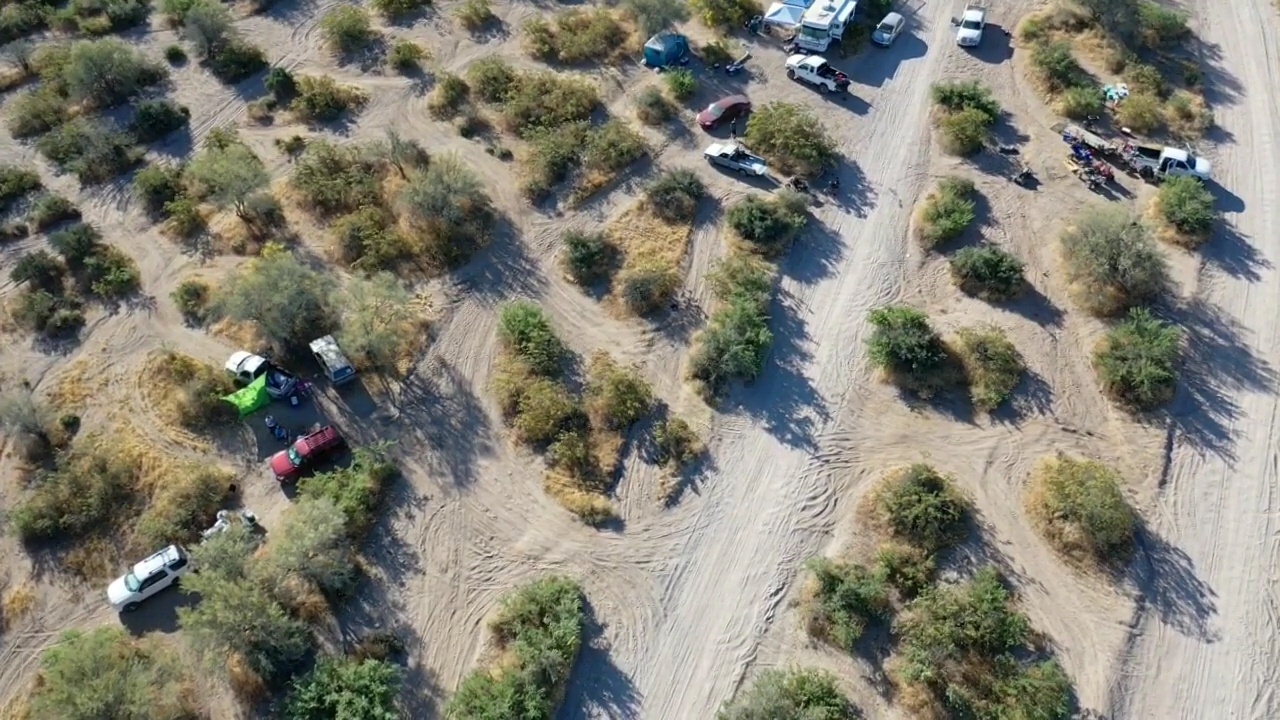araba: (105, 541, 194, 610), (270, 421, 348, 492), (309, 329, 363, 385), (695, 89, 754, 131), (950, 2, 992, 48), (872, 9, 907, 51)
insan: (258, 409, 277, 436), (726, 115, 743, 139)
kamyonet: (1121, 136, 1220, 184), (223, 349, 302, 403), (783, 52, 856, 97), (701, 139, 768, 178)
otobus: (796, 1, 852, 55)
